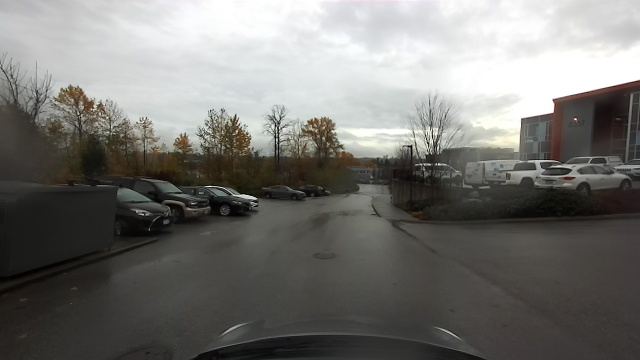car: (532, 163, 630, 189), (153, 179, 209, 218), (117, 194, 173, 232), (487, 155, 531, 190), (210, 182, 254, 217), (414, 159, 462, 185), (261, 182, 306, 203), (301, 184, 330, 196)
